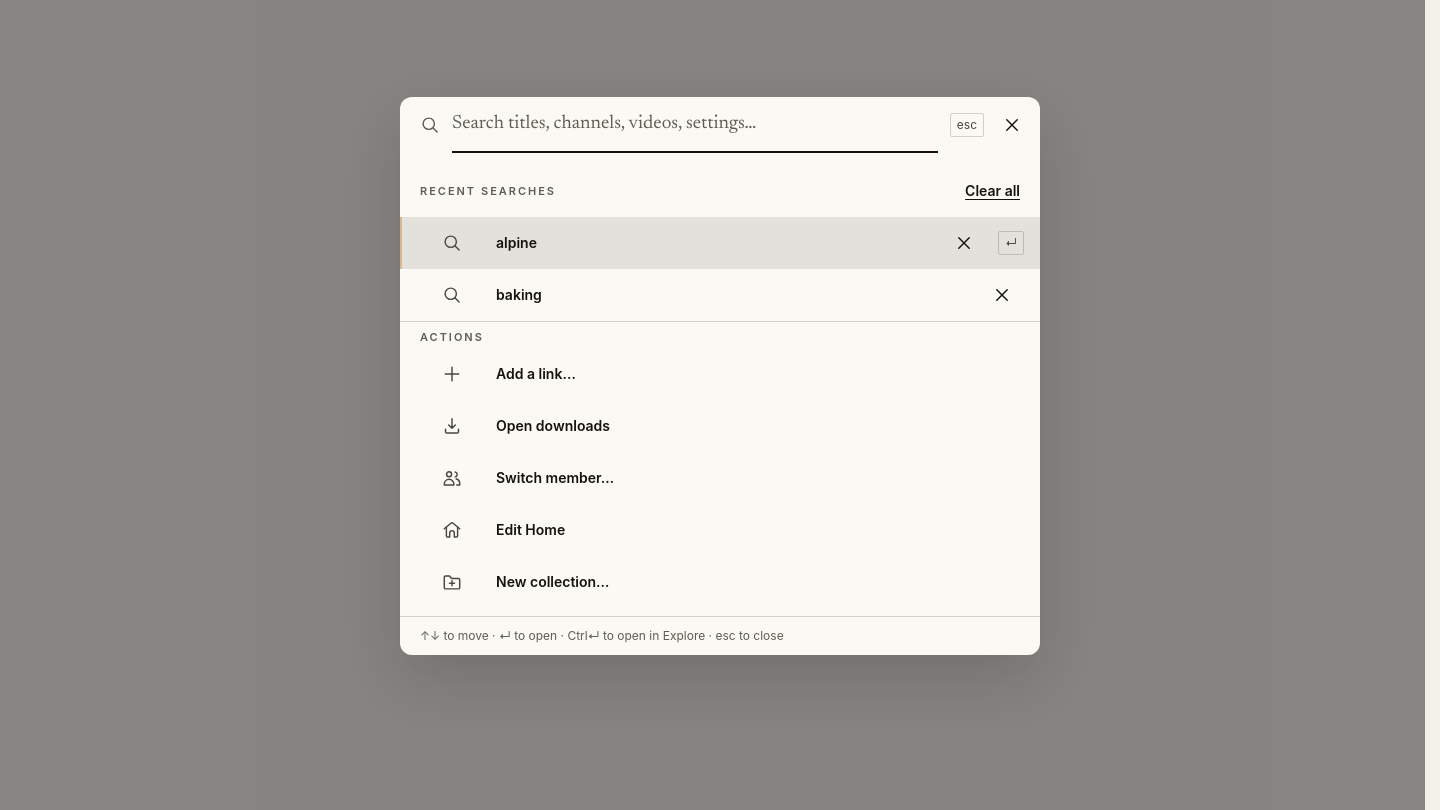
Test case: CommandPalette › debounces 200 ms, groups titles by category and announces the count once
In the dropdown: (695, 125) [452,98,938,152], type "al"
Wait 200 ms
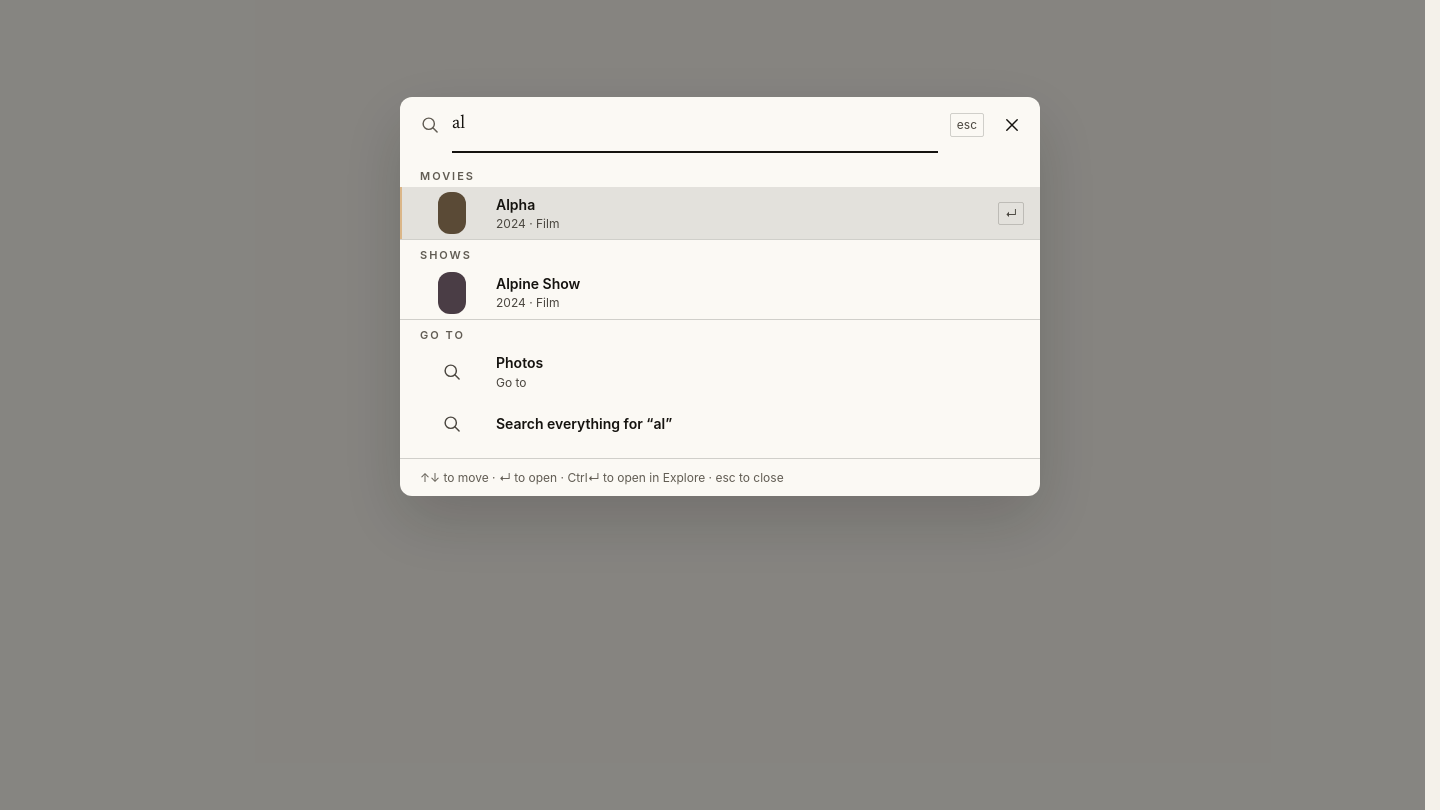
Expected: the element "Movies" shows "Alpha", [496,196,535,213]
Expected: the element "Shows" shows "Alpine Show", [496,275,580,292]
